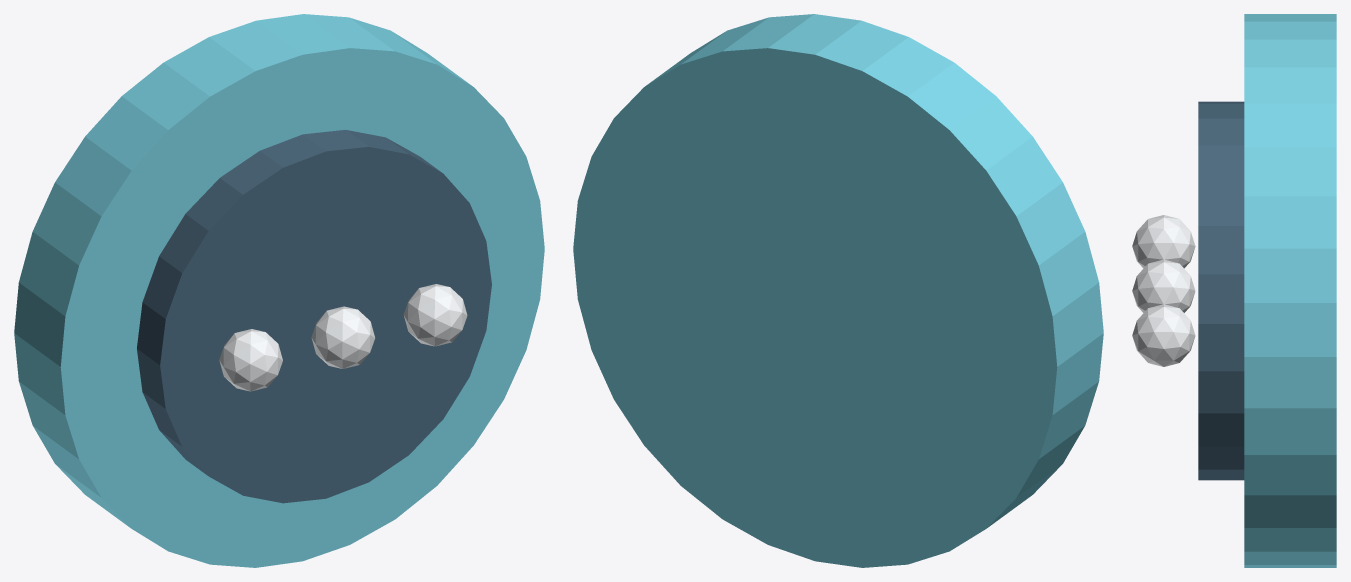
The model's file is diagnostic_port.glb.
3 views of the same model, side by side, from view 1: azimuth 30°, elevation 25°; view 2: azimuth 150°, elevation 25°; view 3: azimuth 270°, elevation 25° (orthographic).
Visible parts, largest first — view 1: Diagnostics outer ring, Diagnostics inner plug, Contact pin -0.04, Contact pin 0, Contact pin 0.04; view 2: Diagnostics outer ring; view 3: Diagnostics outer ring, Diagnostics inner plug, Contact pin 0.04, Contact pin -0.04, Contact pin 0.
Part boxes in pixels (left/top/right/bottom): Diagnostics outer ring: left=14, top=14, right=544, bottom=567; Diagnostics inner plug: left=137, top=129, right=491, bottom=503; Contact pin -0.04: left=219, top=329, right=282, bottom=391; Contact pin 0: left=311, top=306, right=375, bottom=368; Contact pin 0.04: left=403, top=284, right=467, bottom=346; Diagnostics outer ring: left=573, top=14, right=1103, bottom=567; Diagnostics outer ring: left=1244, top=14, right=1336, bottom=567; Diagnostics inner plug: left=1198, top=101, right=1244, bottom=480; Contact pin 0.04: left=1132, top=304, right=1195, bottom=366; Contact pin -0.04: left=1132, top=215, right=1195, bottom=268; Contact pin 0: left=1132, top=259, right=1195, bottom=312.
Size of the model in its own units: 0.21 by 0.21 by 0.0775.
